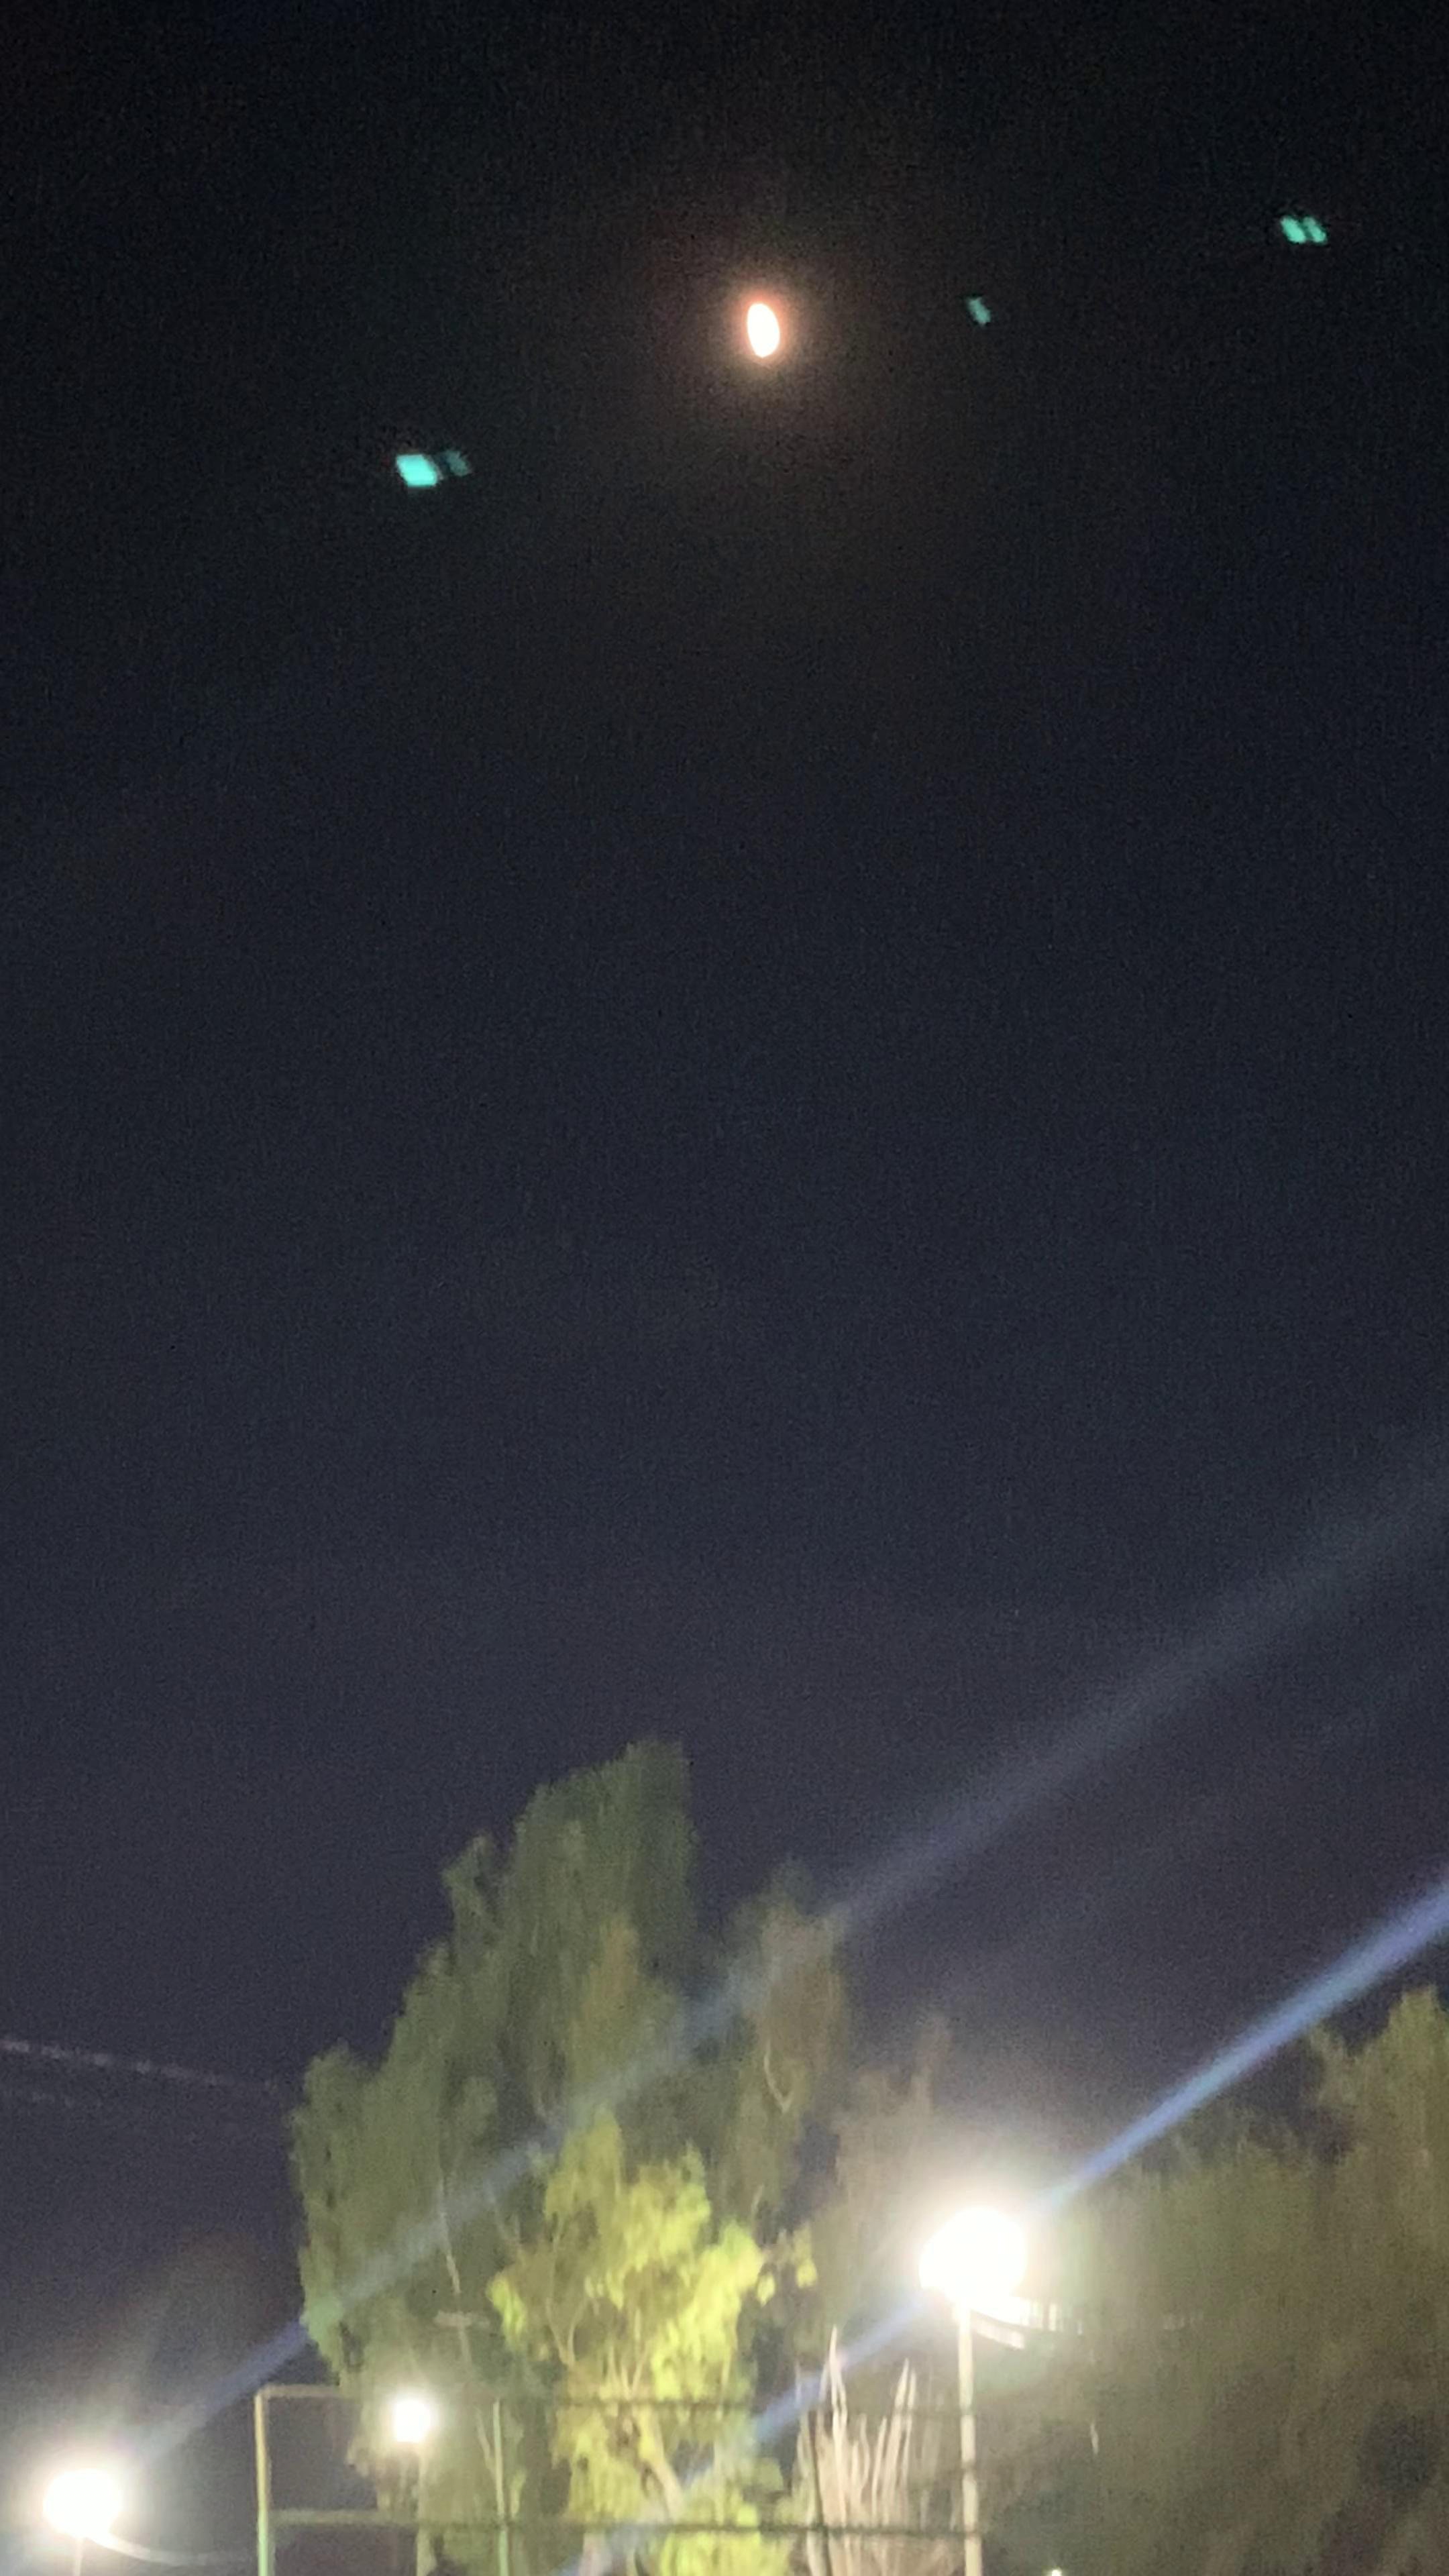moon: (685, 241, 846, 387)
